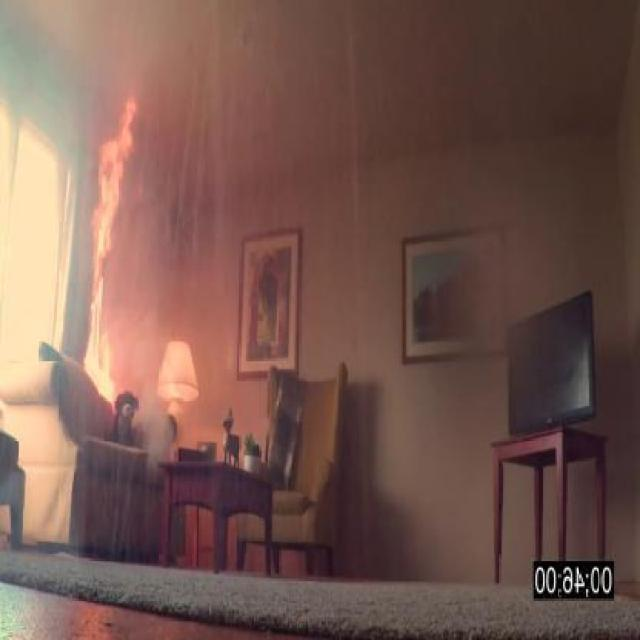smoke: (83, 94, 139, 400)
